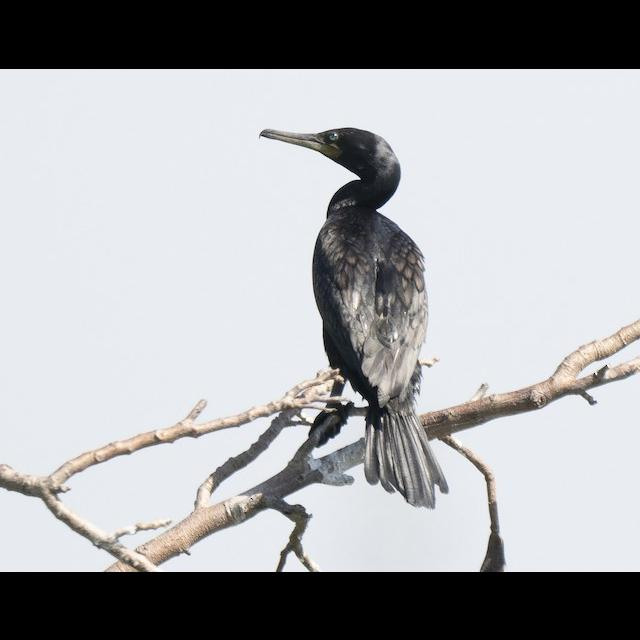cormorant: (252, 105, 458, 509)
